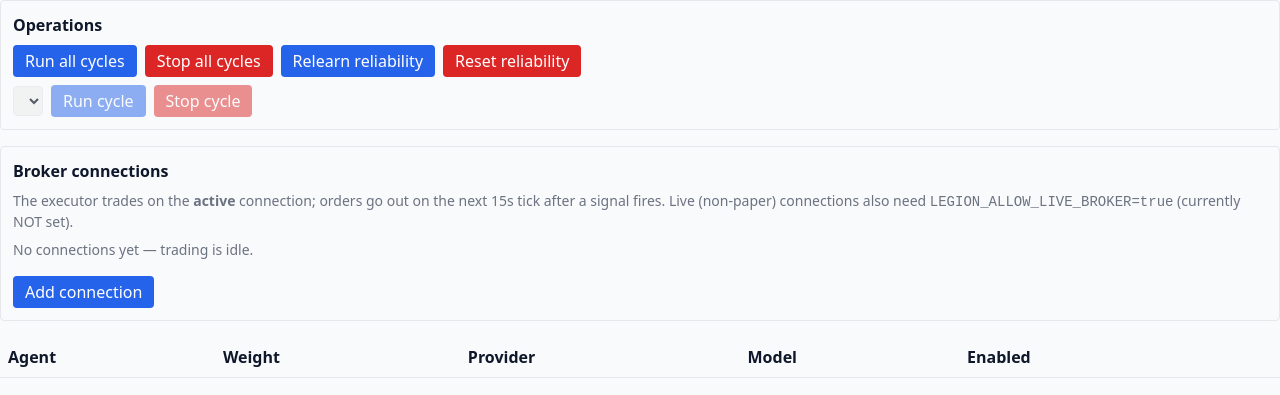
Test: AgentConfig › runs a full sweep from the Operations panel and reports the kicked count
Click the button with aria-label "run-all-cycles".
click(75, 61)  # box [13,45,137,77]
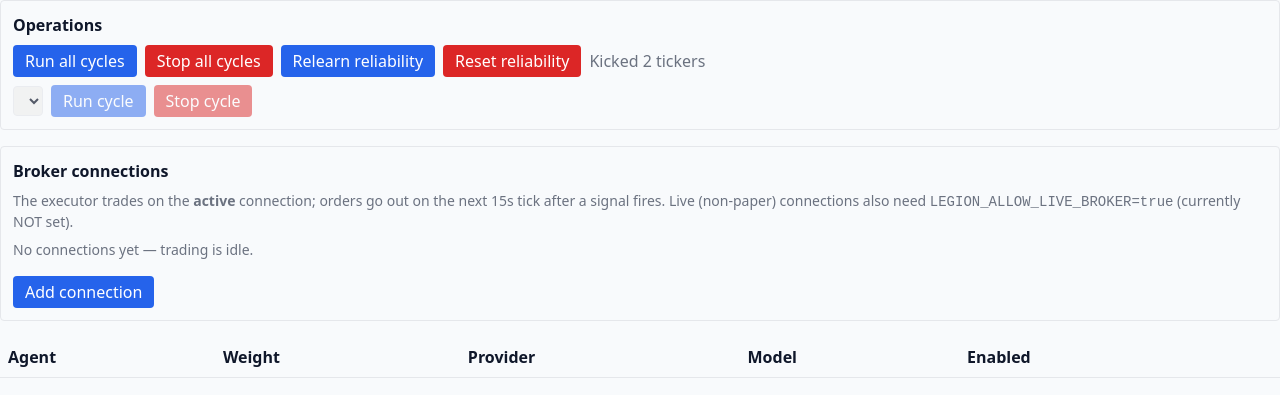
Expected: the text "Kicked 2 tickers" is shown, [589,49,705,73]
